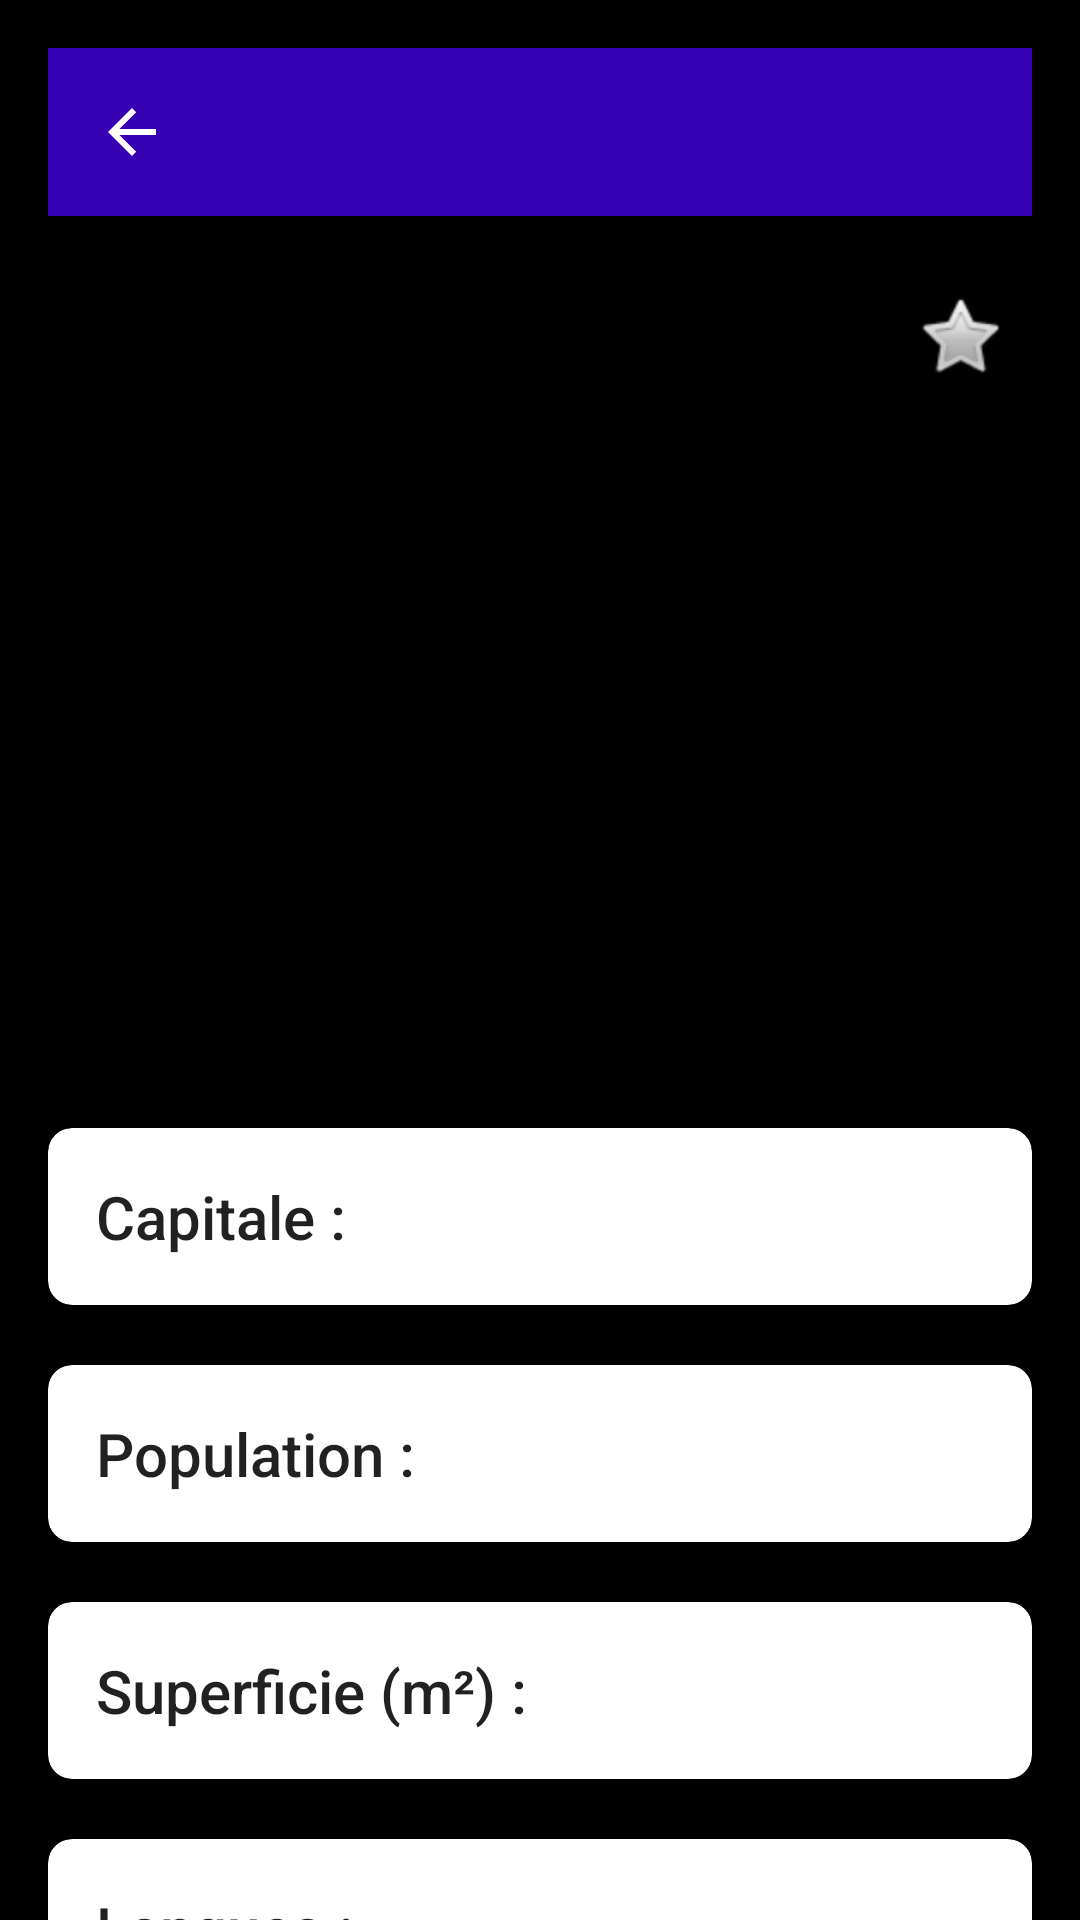

Screen size 1080x1920. Icon name, then its box in pixels as BBox(x1, y1, x2, y2):
star off: BBox(922, 299, 1000, 373)
